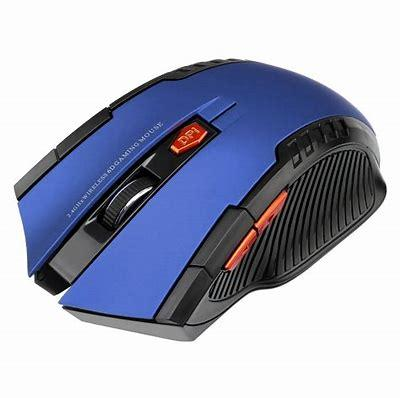computer mouse: (13, 59, 388, 343)
